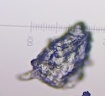microplastic: (16, 21, 95, 90), (80, 90, 94, 96)
